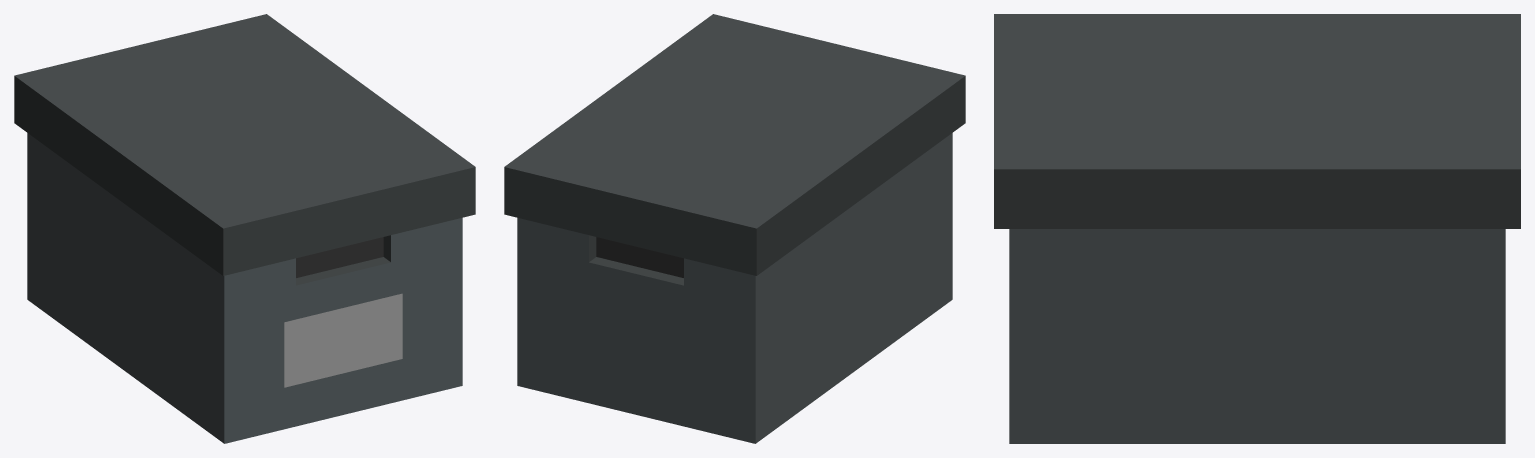
Rendered from SO_FileBox_02.fbx.
3 renders of one model, left to right at view 1: azimuth 30°, elevation 25°; view 2: azimuth 150°, elevation 25°; view 3: azimuth 270°, elevation 25°, orthographic. The views are drawn at different scales.
Visible parts, largest first — view 1: SO_FileBox_02; view 2: SO_FileBox_02; view 3: SO_FileBox_02.
Boxes of the visible parts, x1,y1,x2,y2 form: SO_FileBox_02: [14, 14, 475, 443]; SO_FileBox_02: [504, 14, 965, 443]; SO_FileBox_02: [994, 14, 1520, 443].
Bounding box in the file's own units: 0.6635 × 0.5562 × 0.9511.
